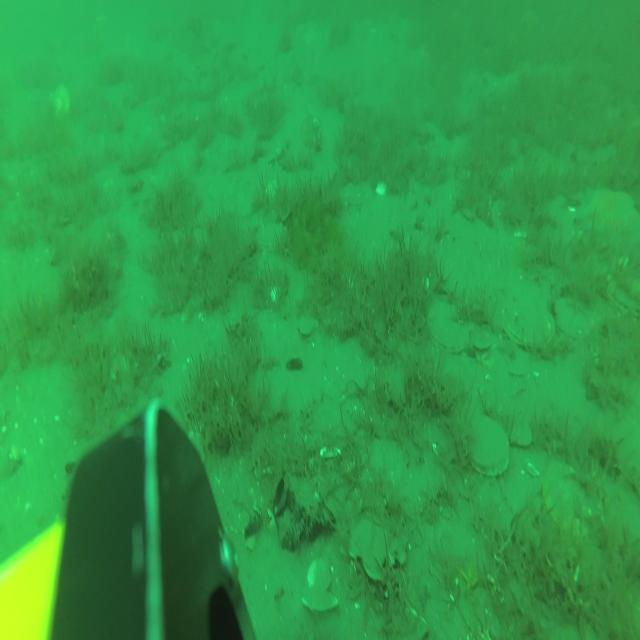scallop: (544, 457, 588, 529), (466, 414, 509, 477), (505, 296, 554, 348), (427, 302, 469, 353), (303, 557, 337, 613), (556, 298, 595, 340), (608, 279, 640, 315), (259, 220, 287, 253), (342, 180, 368, 211), (48, 85, 70, 118), (512, 420, 532, 446), (298, 312, 318, 338), (474, 332, 490, 352)
starfish: (575, 186, 640, 247)
